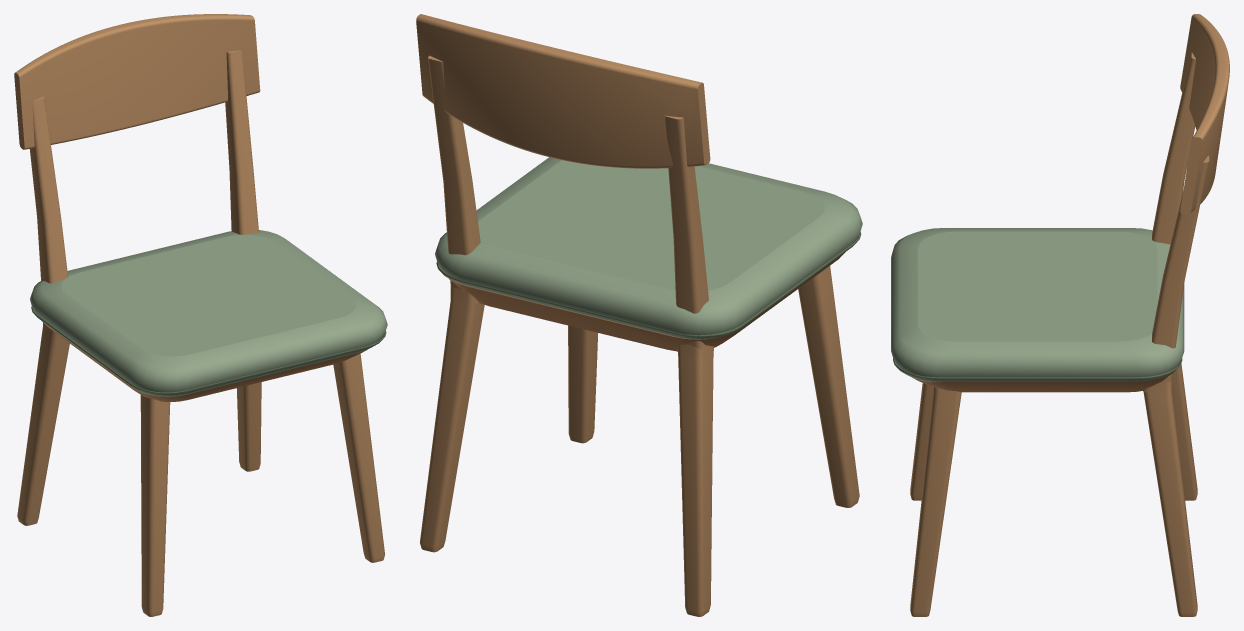
3 renders of one model, left to right at view 1: azimuth 30°, elevation 25°; view 2: azimuth 150°, elevation 25°; view 3: azimuth 270°, elevation 25°, orthographic. The views are drawn at different scales.
Visible parts, largest first — view 1: Sage seat cushion, Steam-bent oak backrest, Left front leg, Right front leg, Left rear leg, Right back upright, Left back upright, Right rear leg, Laminated oak seat shell, Seat perimeter welt; view 2: Sage seat cushion, Steam-bent oak backrest, Left rear leg, Right rear leg, Left front leg, Left back upright, Right back upright, Laminated oak seat shell, Right front leg, Seat perimeter welt; view 3: Sage seat cushion, Steam-bent oak backrest, Right rear leg, Right front leg, Right back upright, Left back upright, Laminated oak seat shell, Left rear leg, Left front leg, Seat perimeter welt.
Part boxes in pixels (x1,y1,x2,y2): Sage seat cushion: (30,230,387,396); Steam-bent oak backrest: (14,14,260,149); Left front leg: (140,395,170,616); Right front leg: (333,353,384,562); Left rear leg: (17,323,69,525); Right back upright: (225,50,258,234); Left back upright: (29,96,67,283); Right rear leg: (236,382,261,471); Laminated oak seat shell: (42,321,367,401); Seat perimeter welt: (31,306,386,393); Sage seat cushion: (435,157,862,339); Steam-bent oak backrest: (416,14,710,168); Left rear leg: (678,343,713,616); Right rear leg: (420,287,484,552); Left front leg: (798,266,859,507); Left back upright: (664,115,713,351); Right back upright: (428,55,480,304); Laminated oak seat shell: (449,252,845,351); Right front leg: (568,325,597,443); Seat perimeter welt: (436,232,861,336); Sage seat cushion: (891,228,1184,382); Steam-bent oak backrest: (1180,14,1229,214); Right rear leg: (1143,378,1197,616); Right front leg: (910,387,961,616); Right back upright: (1143,155,1209,392); Left back upright: (1152,52,1195,244); Laminated oak seat shell: (912,372,1173,392); Left rear leg: (1171,364,1197,500); Left front leg: (910,383,933,500); Seat perimeter welt: (893,358,1182,379).
Bounding box in the file's own units: 0.48 × 0.83 × 0.52.
